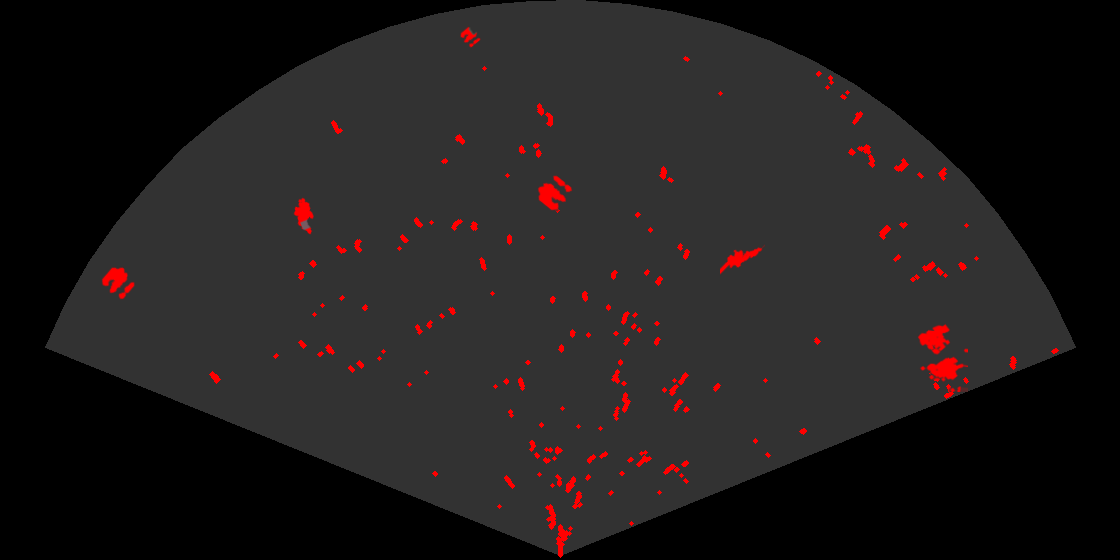AUV: (292, 196, 315, 236)
ball: (536, 174, 574, 212), (100, 266, 136, 301), (459, 25, 482, 49)
cage: (916, 322, 968, 392)
frogman: (720, 243, 765, 276)
